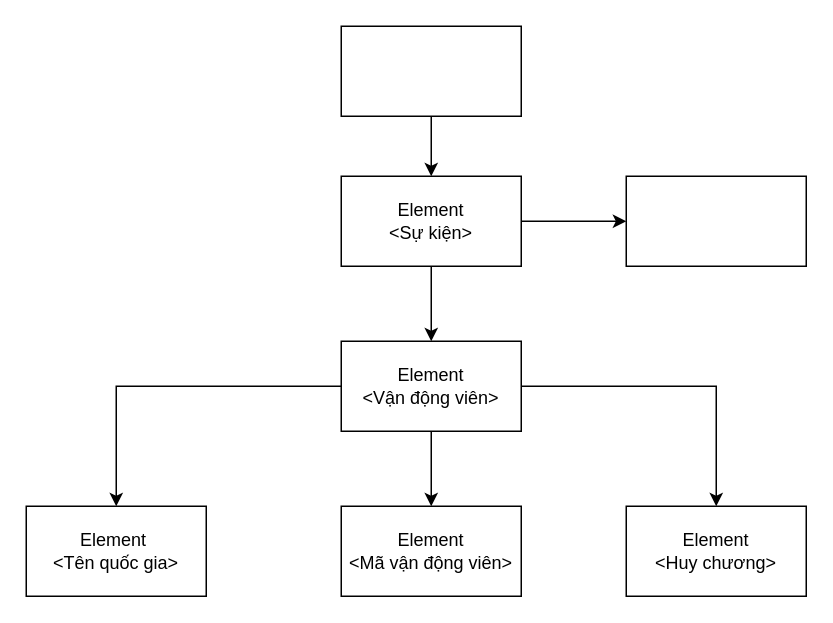
Image size: 833x623. Some labels were removed from this diagram. Here are the shapes that lost their labels. From the top down, the centre of each, then its label:
At (430,70): "Root Element <Kết quả thi đấu>".
At (715,220): "Attribute <Tên sự kiện>".
